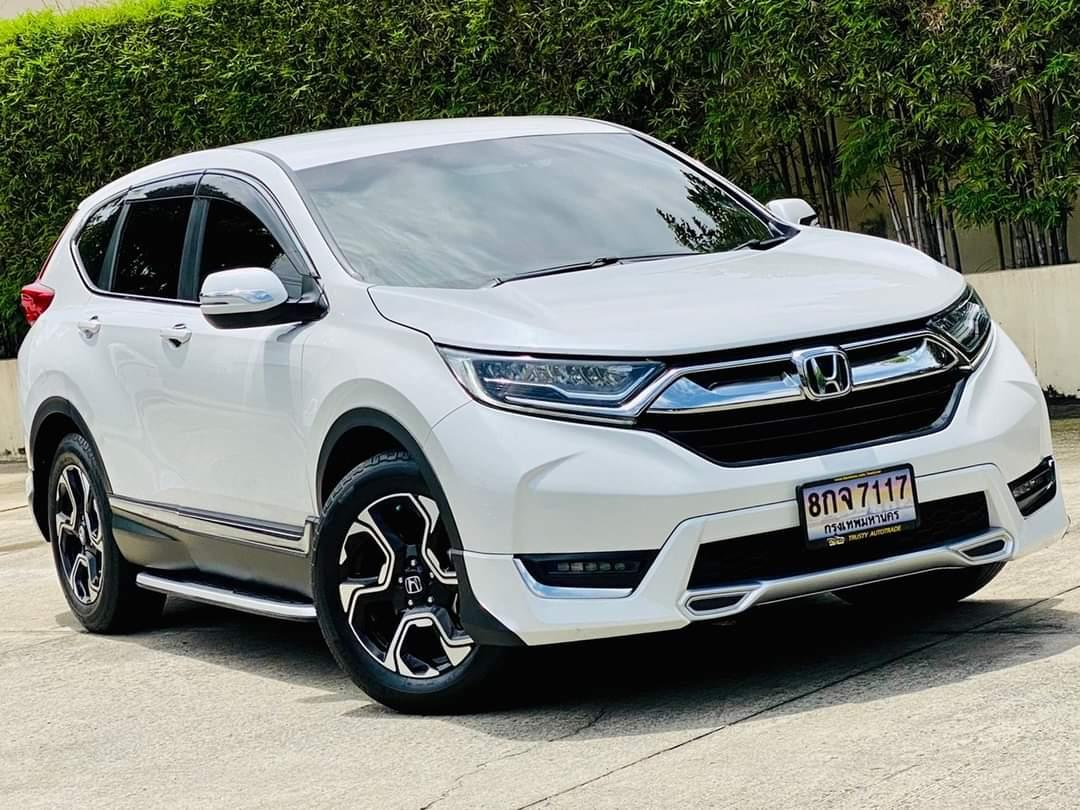license-plate: (796, 459, 929, 559)
